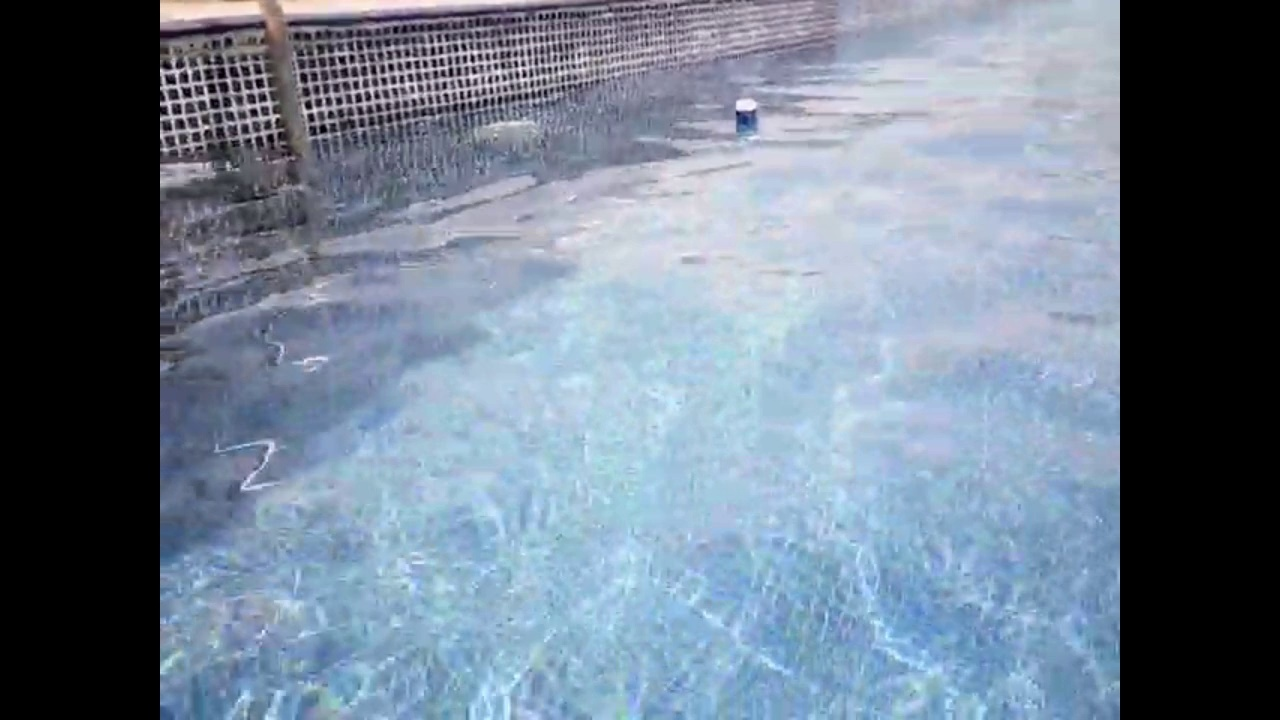debris: (730, 93, 762, 143)
